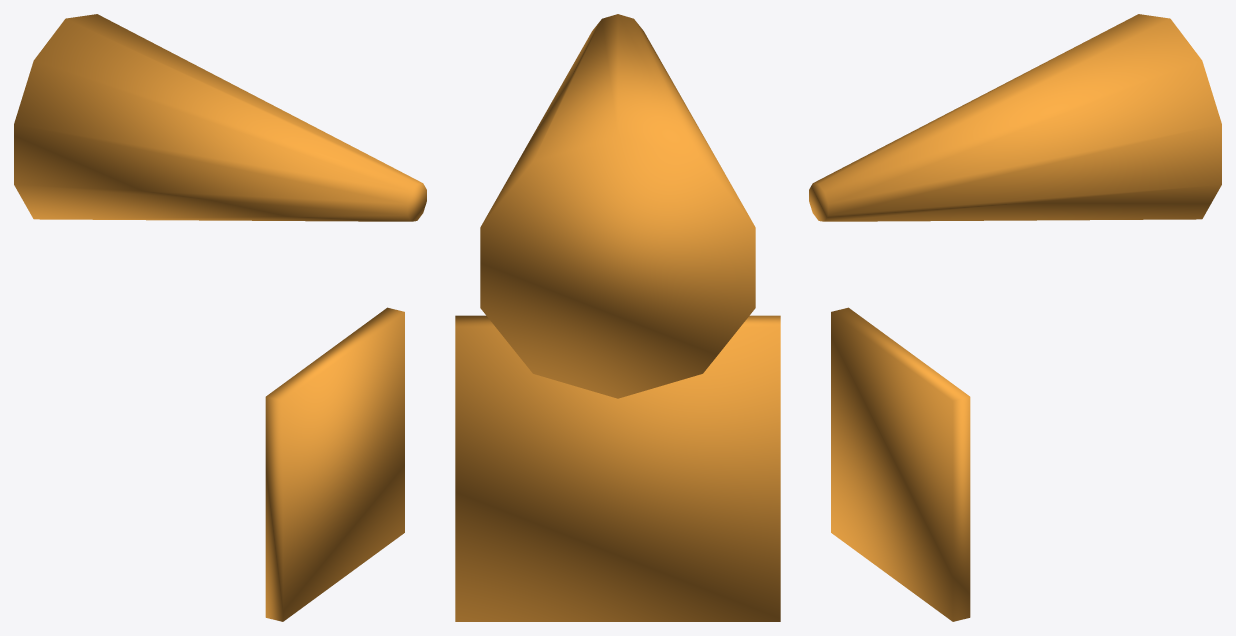
The model's file is lot_cone.glb.
3 views of the same model, side by side, from view 1: azimuth 30°, elevation 25°; view 2: azimuth 150°, elevation 25°; view 3: azimuth 270°, elevation 25° (orthographic). The views are drawn at different scales.
Parts seen in each view (by area): view 1: lot_cone; view 2: lot_cone; view 3: lot_cone.
Part boxes in pixels (x1,y1,x2,y2): lot_cone: (14, 14, 426, 621); lot_cone: (455, 14, 780, 621); lot_cone: (809, 14, 1221, 621).
Size of the model in its own units: 0.5252 by 0.8 by 0.61.
